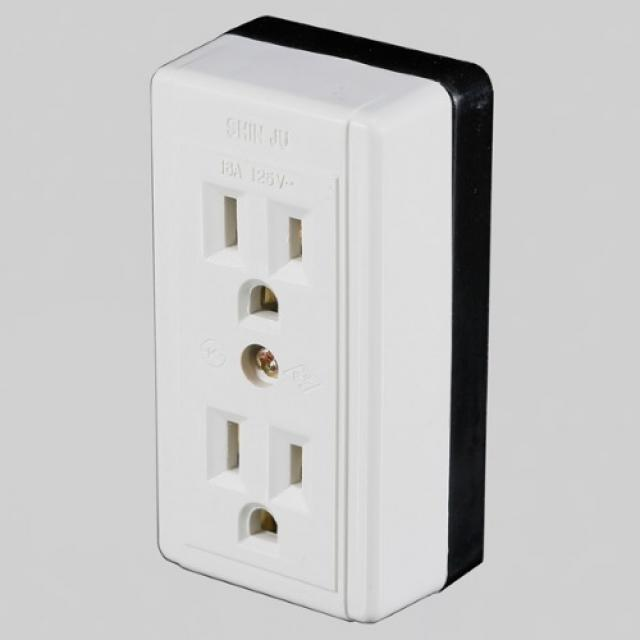typeb: (43, 19, 522, 636)
